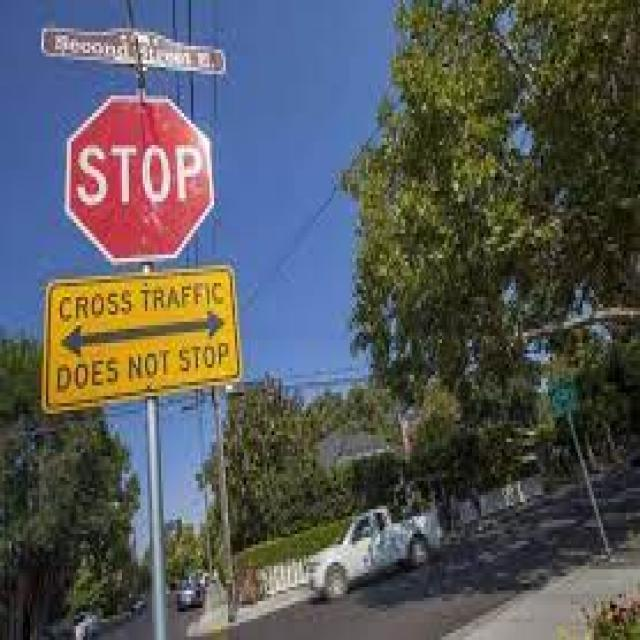stop-sign: (58, 81, 233, 248)
